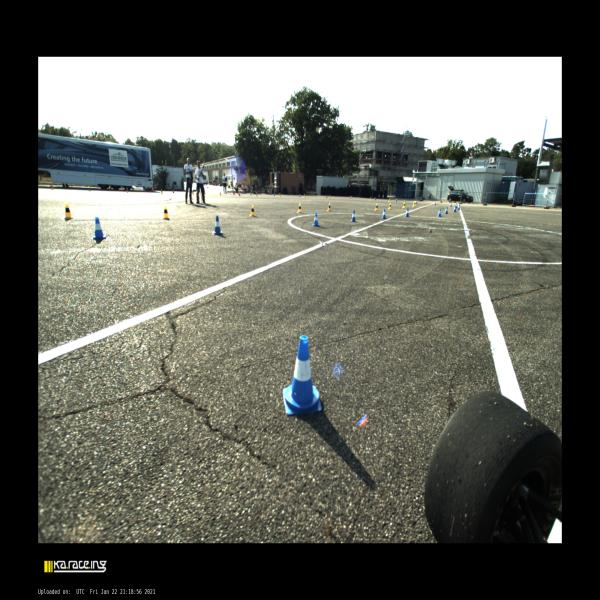blue_cone: (283, 336, 321, 413), (93, 217, 106, 238), (213, 215, 223, 235), (312, 212, 320, 226), (350, 210, 356, 222), (381, 208, 387, 219), (404, 208, 410, 217), (437, 209, 442, 217), (444, 206, 448, 214), (452, 206, 456, 212), (449, 202, 452, 207), (458, 204, 460, 210), (434, 201, 436, 205), (250, 192, 252, 196), (299, 193, 301, 197), (396, 198, 398, 202), (374, 197, 376, 200), (173, 189, 174, 194), (274, 193, 275, 196), (326, 195, 327, 198)
yellow_cone: (64, 203, 74, 219), (163, 206, 171, 219), (250, 204, 256, 216), (297, 203, 302, 213), (327, 202, 331, 212), (374, 203, 379, 211), (388, 202, 391, 210), (412, 201, 416, 207), (50, 184, 54, 190), (403, 202, 406, 209), (88, 186, 91, 192), (303, 193, 306, 198), (219, 191, 222, 196), (369, 197, 372, 201), (388, 198, 390, 203), (126, 188, 128, 193), (192, 190, 194, 195), (350, 196, 352, 200), (279, 193, 281, 197), (161, 190, 163, 194), (256, 193, 258, 196), (329, 195, 330, 199)
